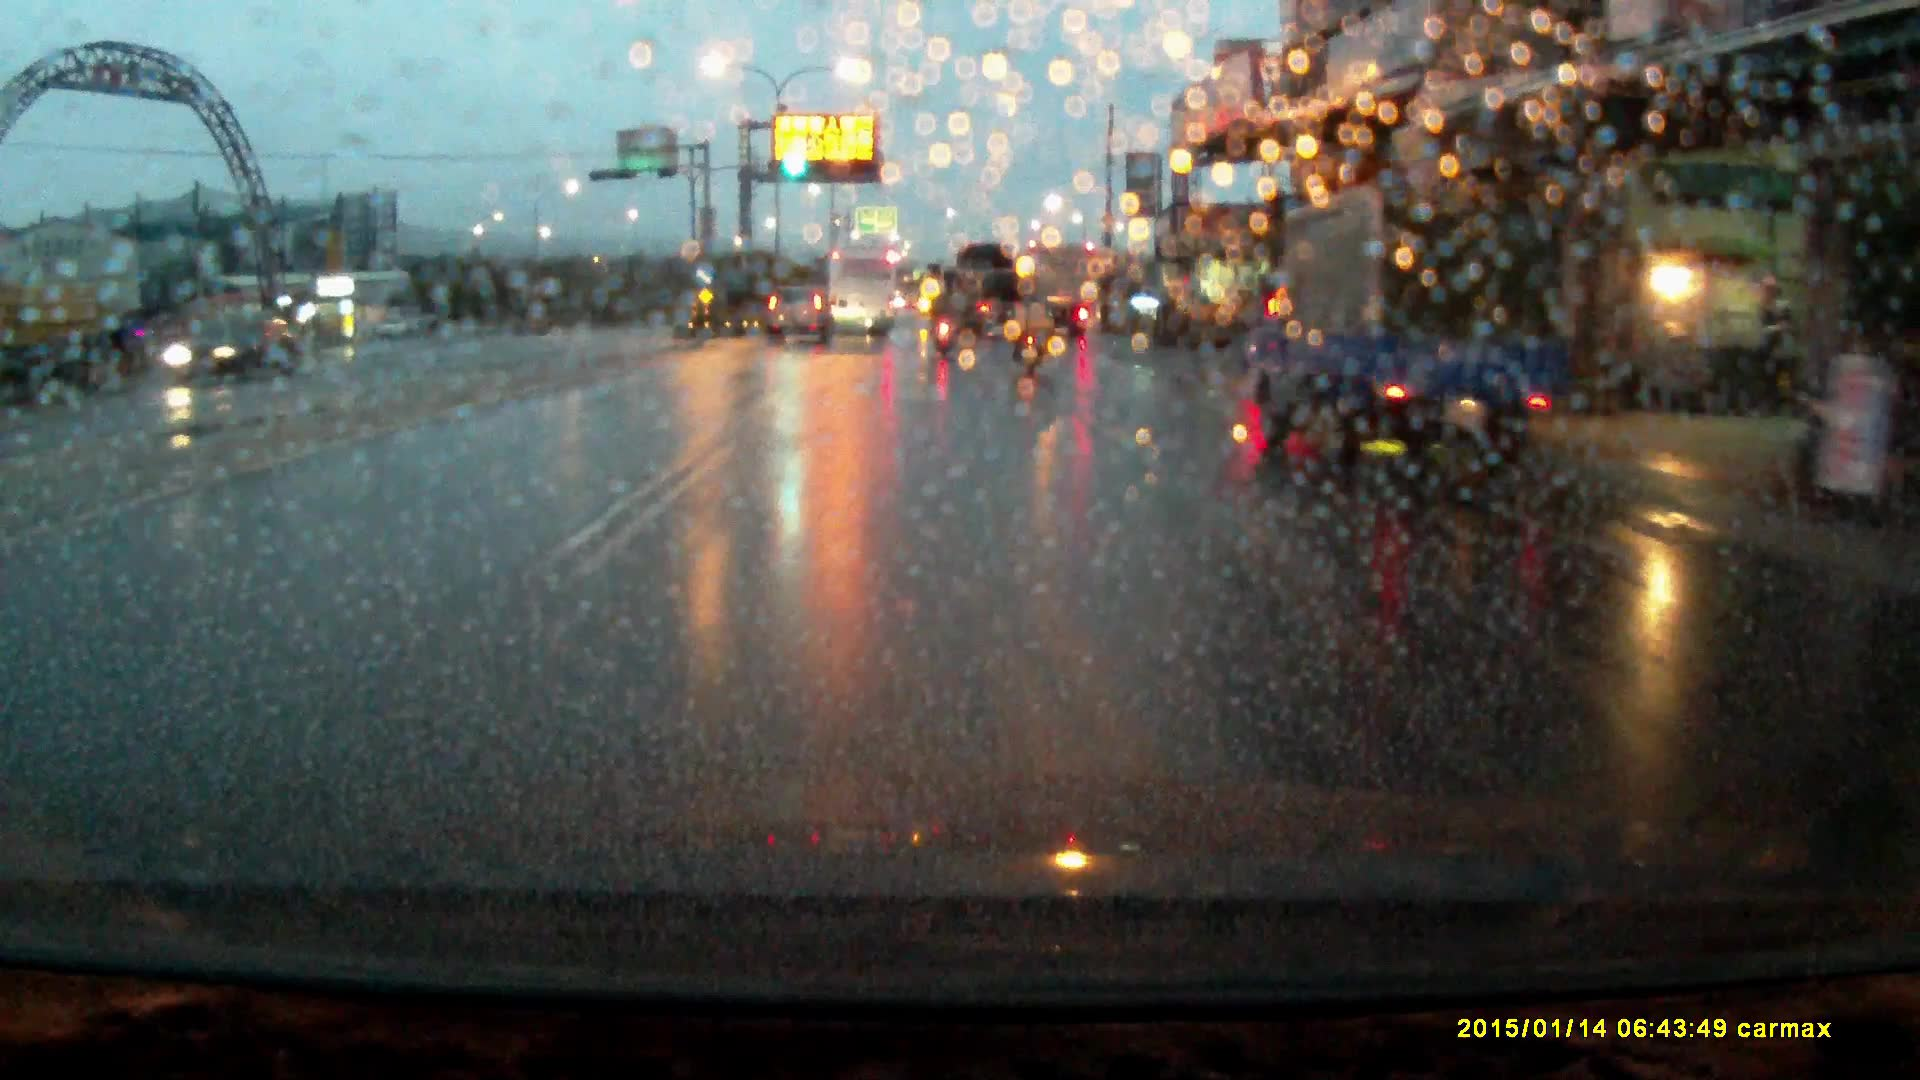rider: (1007, 284, 1052, 379), (930, 287, 958, 358)
vehicle: (1234, 178, 1568, 478), (1, 284, 109, 387), (160, 315, 291, 390), (951, 245, 1022, 338), (825, 249, 898, 333), (1026, 247, 1094, 331), (767, 286, 834, 342)
